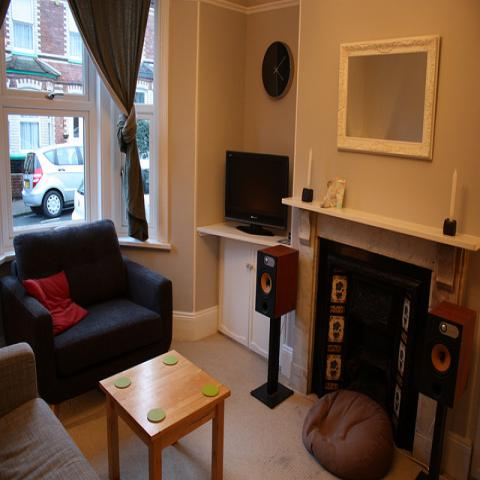car: (22, 144, 85, 217)
